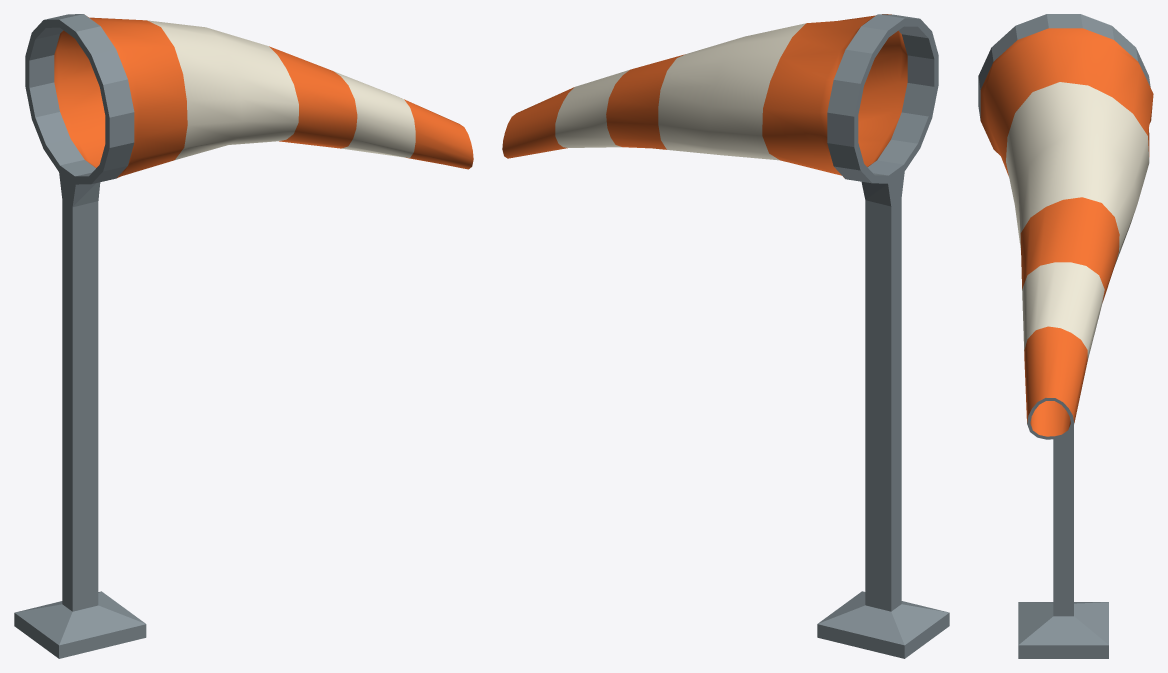
The model's file is NEW_RECOVERY_092_LOD2.fbx.
The picture shows the model from 3 angles, left to right: view 1: azimuth 30°, elevation 25°; view 2: azimuth 150°, elevation 25°; view 3: azimuth 270°, elevation 25°; orthographic projection.
Parts seen in each view (by area): view 1: WholeWindsock; view 2: WholeWindsock; view 3: WholeWindsock.
Boxes of the visible parts, <box> form: WholeWindsock: <box>14,14,473,658</box>; WholeWindsock: <box>502,14,949,658</box>; WholeWindsock: <box>978,14,1153,658</box>.
Size of the model in its own units: 259 by 92.62 by 360.
